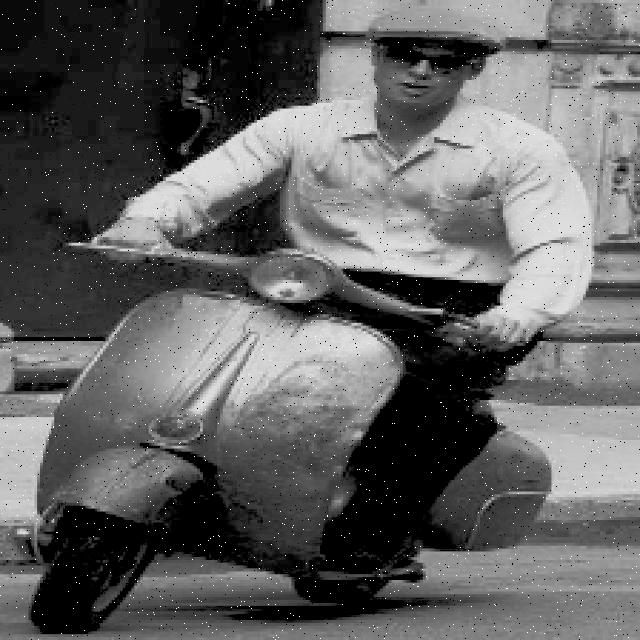Bike: (39, 233, 551, 639)
